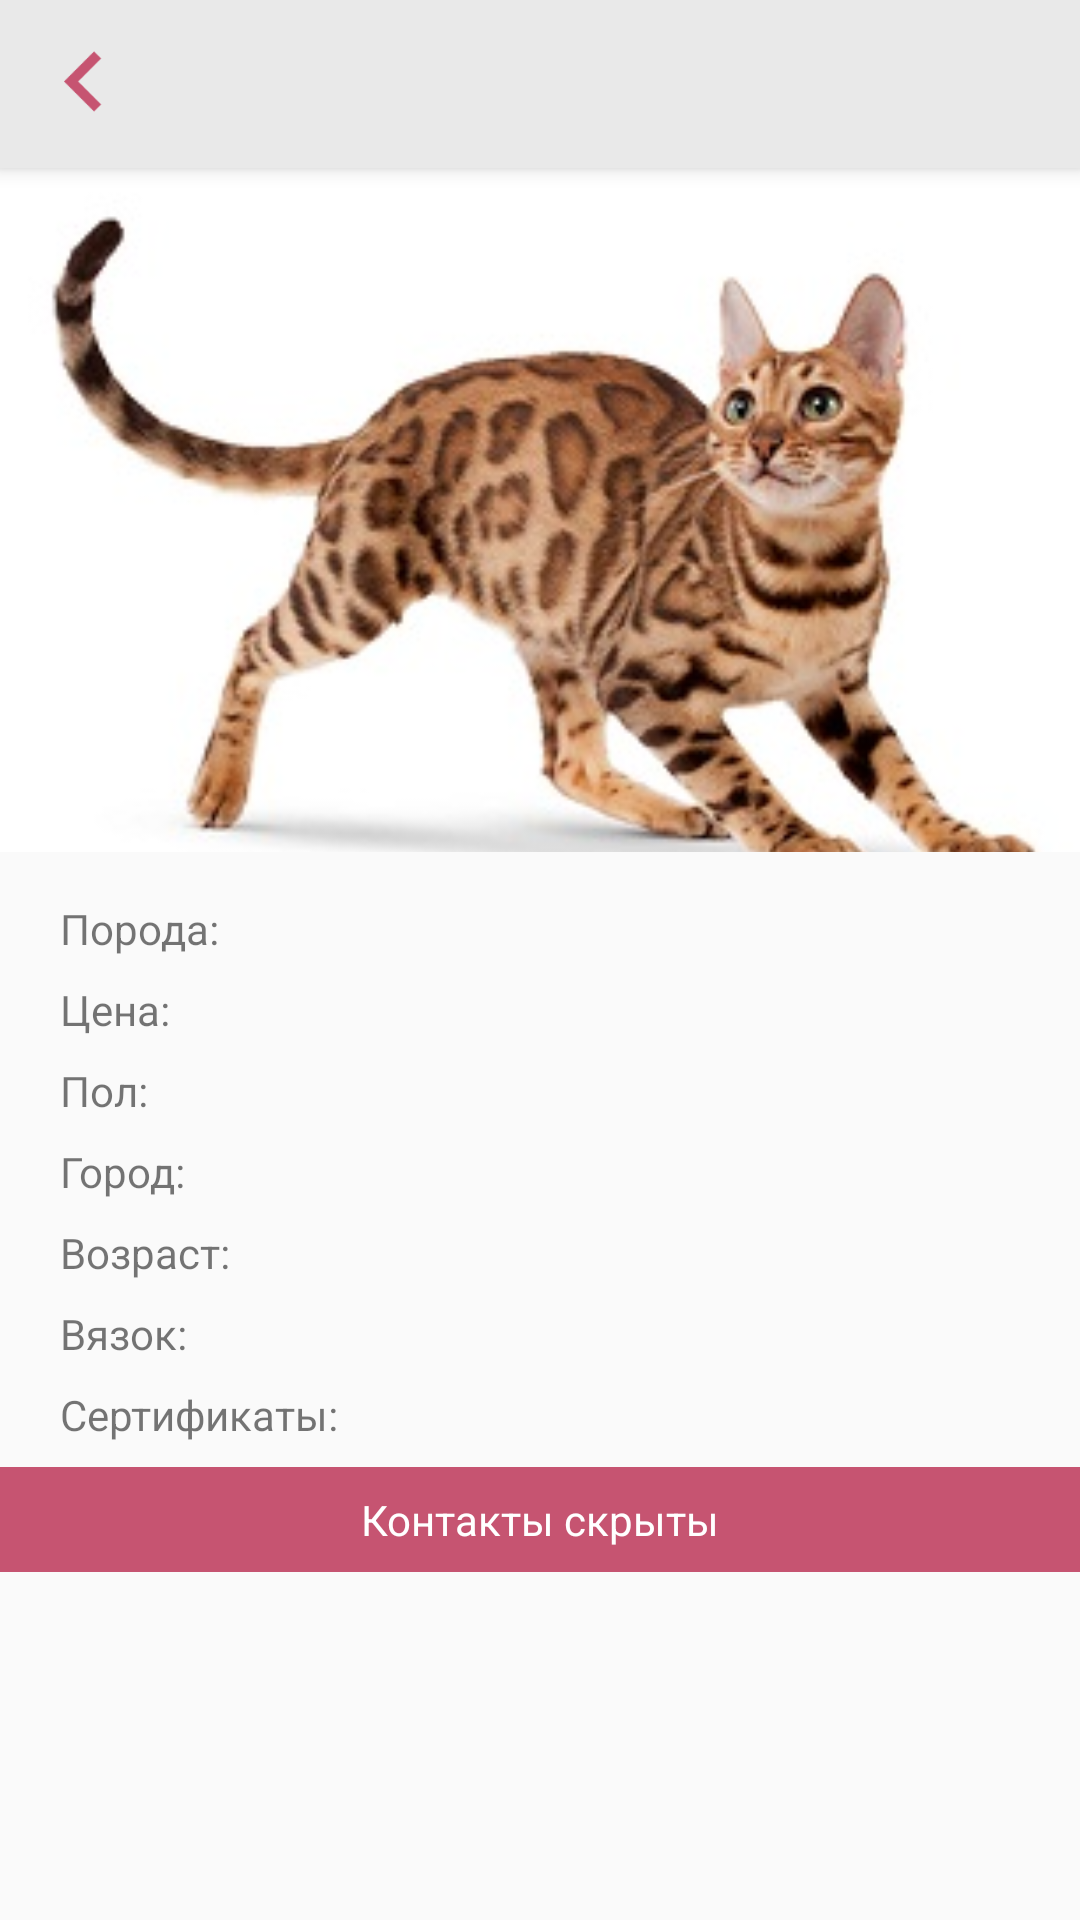

Where icons sit on this 1080 × 1920 app screen, as (x1, y1, x2, y2):
arrow left: (64, 51, 101, 112)
